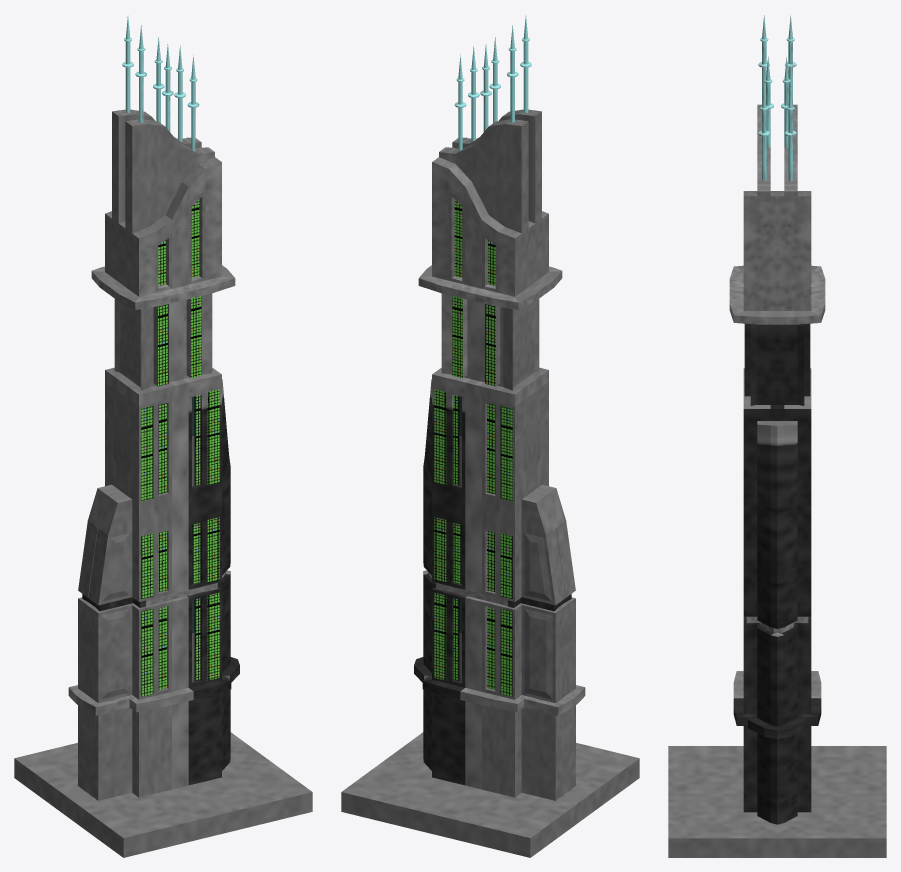
File: tower2.fbx
The picture shows the model from 3 angles, left to right: view 1: azimuth 30°, elevation 25°; view 2: azimuth 150°, elevation 25°; view 3: azimuth 270°, elevation 25°; orthographic projection.
Visible parts, largest first — view 1: Cube; view 2: Cube; view 3: Cube.
Part boxes in pixels (bbox=[...]): Cube: bbox=[14, 15, 312, 857]; Cube: bbox=[341, 15, 639, 857]; Cube: bbox=[668, 15, 886, 857].
Size of the model in its own units: 1000 by 3958 by 1000.
